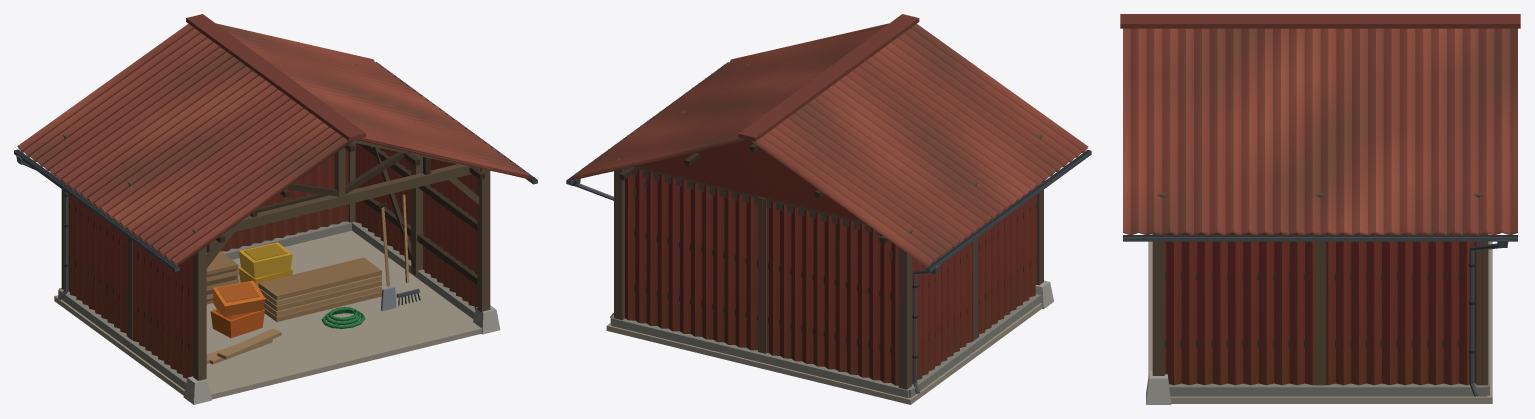
Rendered from shed_red.glb.
3 renders of one model, left to right at view 1: azimuth 30°, elevation 25°; view 2: azimuth 150°, elevation 25°; view 3: azimuth 270°, elevation 25°, orthographic. The views are drawn at different scales.
Visible parts, largest first — view 1: shed_red; view 2: shed_red; view 3: shed_red.
Part boxes in pixels (left/top/right/bottom): shed_red: left=14, top=14, right=537, bottom=404; shed_red: left=566, top=14, right=1091, bottom=404; shed_red: left=1120, top=14, right=1520, bottom=404.
Size of the model in its own units: 6.09 by 3.81 by 4.7.
